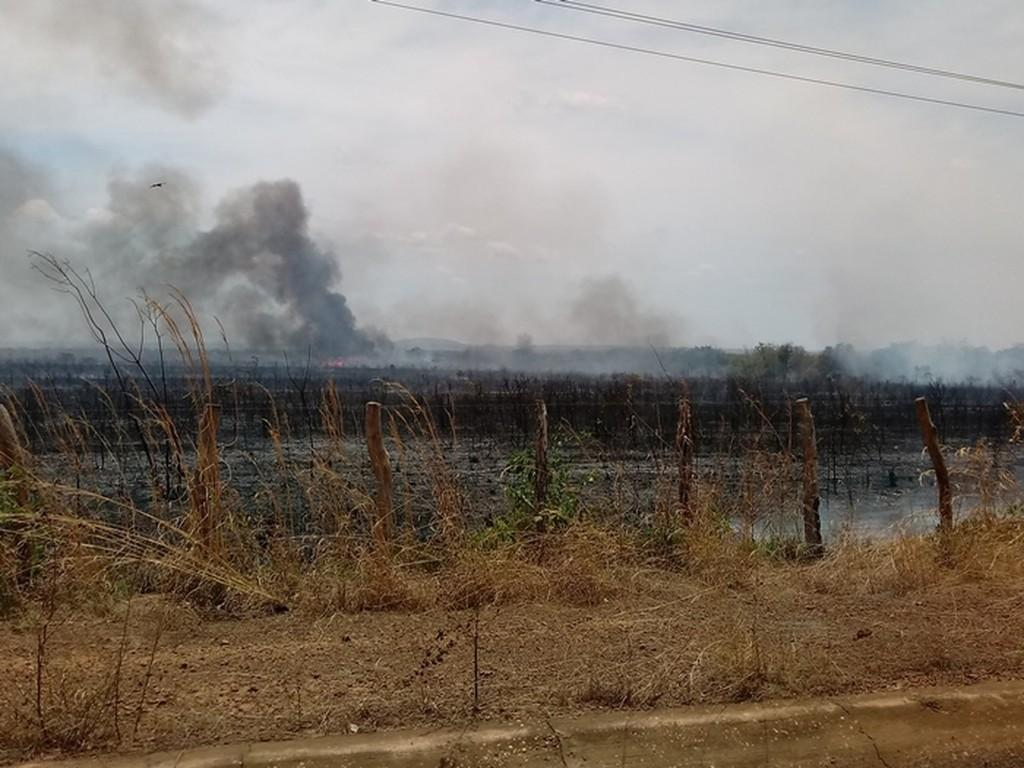Smoke: (54, 175, 400, 356), (564, 265, 999, 397)
